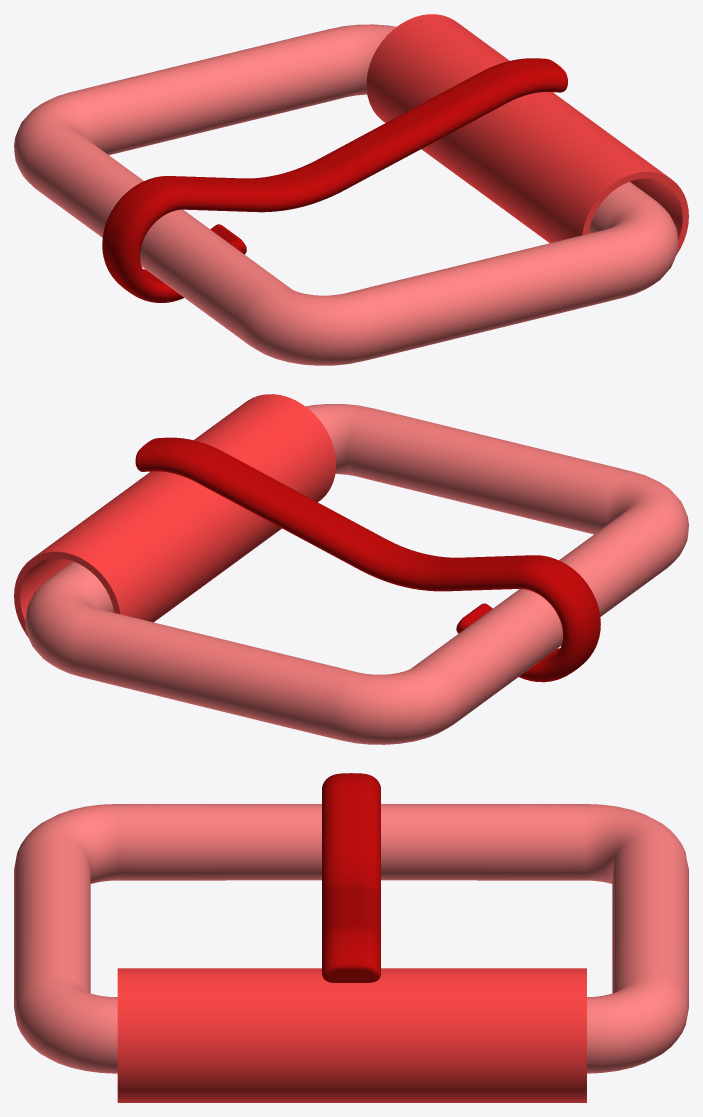
Rendered from 100066758-Buckle-1-inch-rectangle-anti-brass.fbx.
3 views of the same model, one above another, from view 1: azimuth 30°, elevation 25°; view 2: azimuth 150°, elevation 25°; view 3: azimuth 270°, elevation 25° (orthographic). The views are drawn at different scales.
Visible parts, largest first — view 1: Buckle, Roller, Prong; view 2: Buckle, Roller, Prong; view 3: Buckle, Roller, Prong.
Part boxes in pixels (box(x1,y1,x2,y2)): Buckle: box(14, 24, 678, 365); Roller: box(366, 14, 688, 254); Prong: box(102, 58, 567, 302); Buckle: box(25, 404, 688, 744); Roller: box(14, 394, 335, 637); Prong: box(135, 437, 600, 682); Buckle: box(14, 804, 688, 1073); Roller: box(117, 968, 586, 1102); Prong: box(322, 773, 380, 982).
Bounding box in the file's own units: 28.63 × 32.55 × 8.4.
